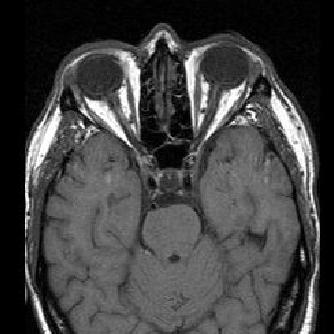Normal_Brain: (12, 1, 334, 334)
